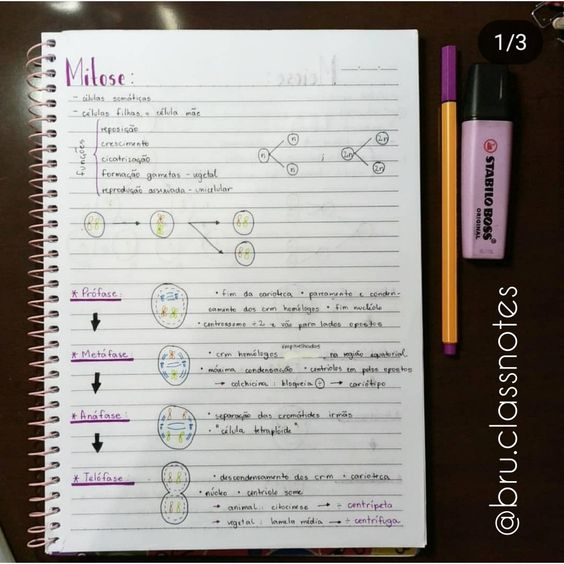page: (61, 33, 415, 543)
